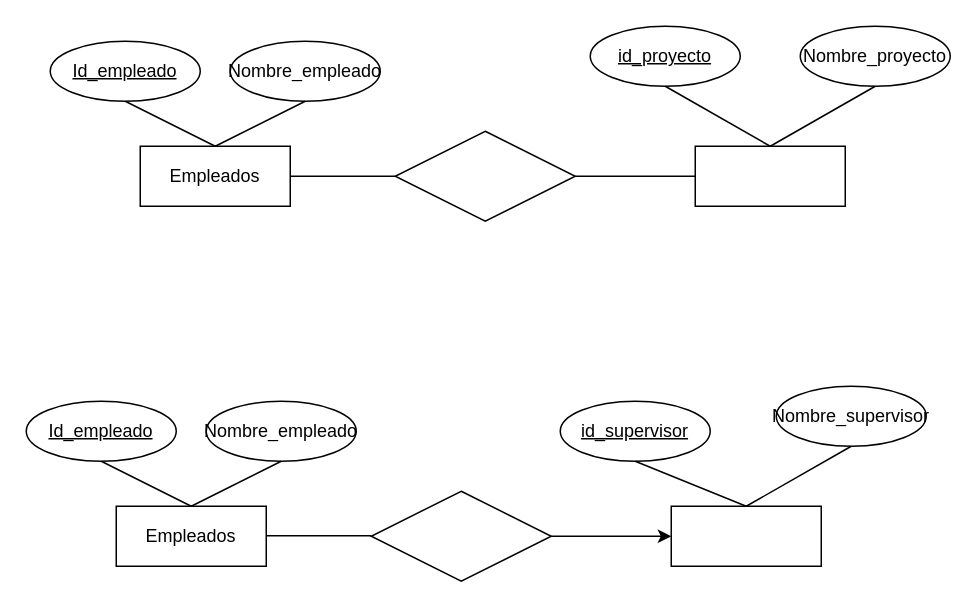
The diagram is 977 pixels wide and 608 high, and some of its shapes have lost their labels. Here are the shapes that lost their labels. From the top down, the box of each, then its label:
(394, 130, 575, 221): Tiene
(694, 145, 845, 206): Proyectos
(370, 490, 551, 581): supervisa
(670, 505, 821, 566): Supervisores
